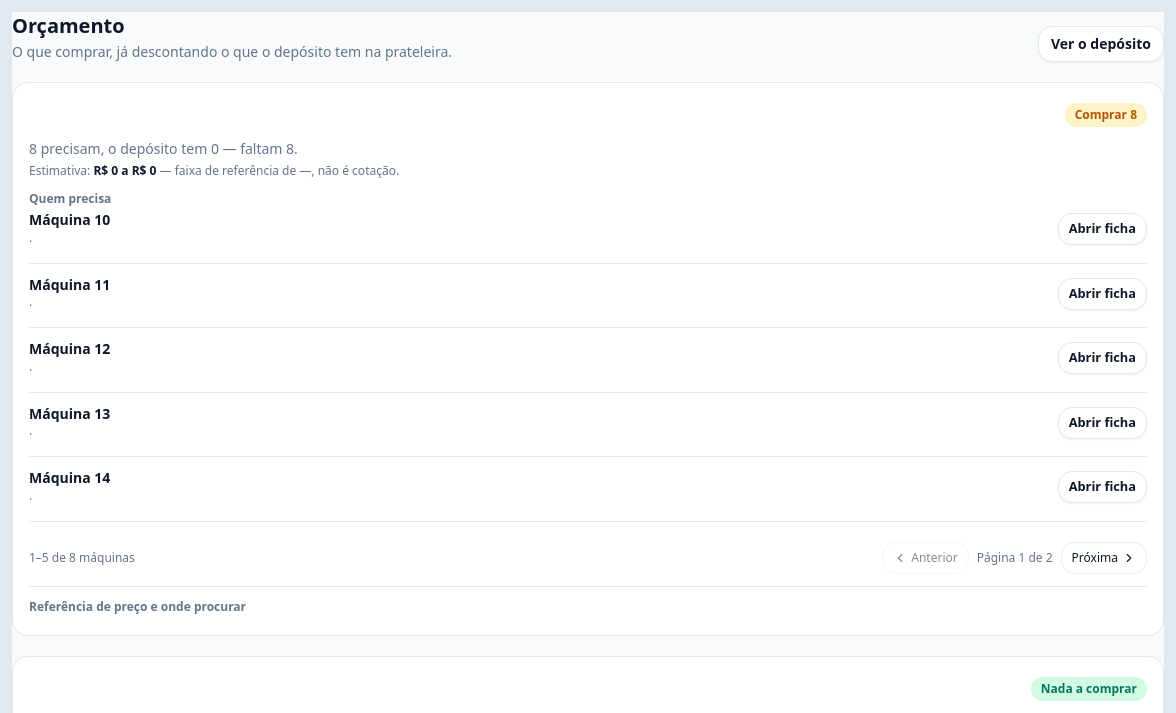
Test case: AcerolaBudgetView › paginates the machines list when there are more than 5 machines
Expected: the text "Máquina 10" is shown, [29,210,110,229]
Expected: the text "Máquina 14" is shown, [29,468,110,487]
Click the button "Próxima". click: [1104, 558]
box: [1061,542,1147,574]
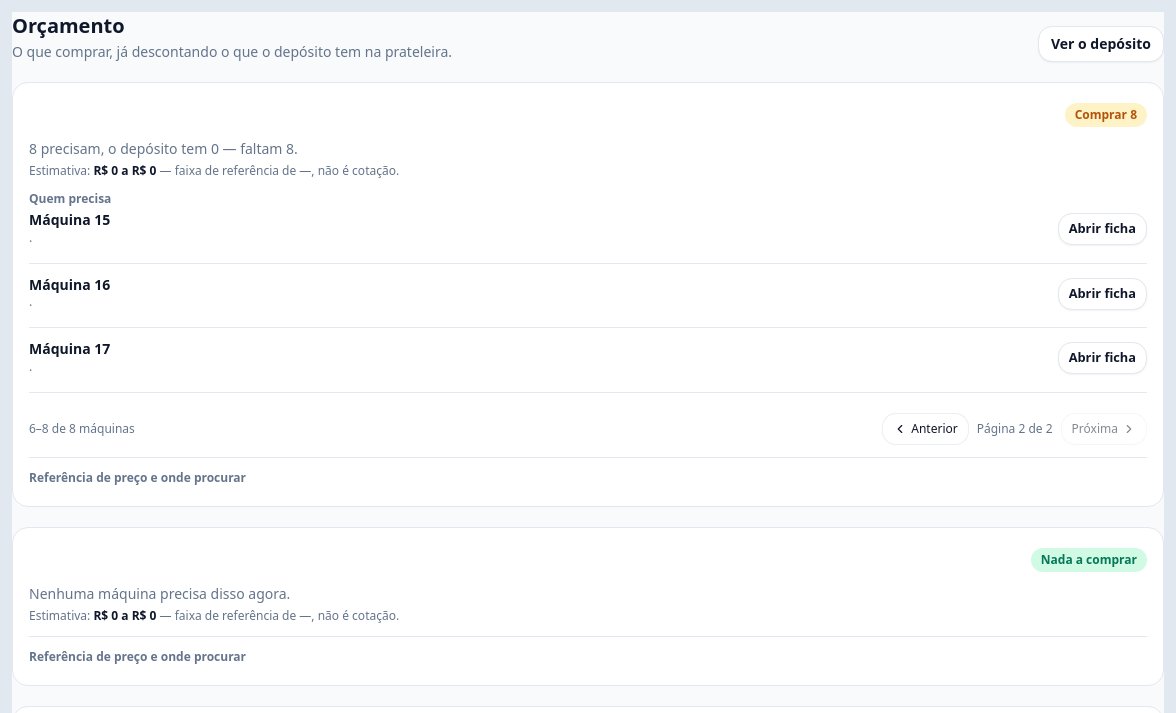
Expected: the text "Máquina 15" is shown, [29,210,110,229]
Expected: the text "Máquina 17" is shown, [29,339,110,358]
